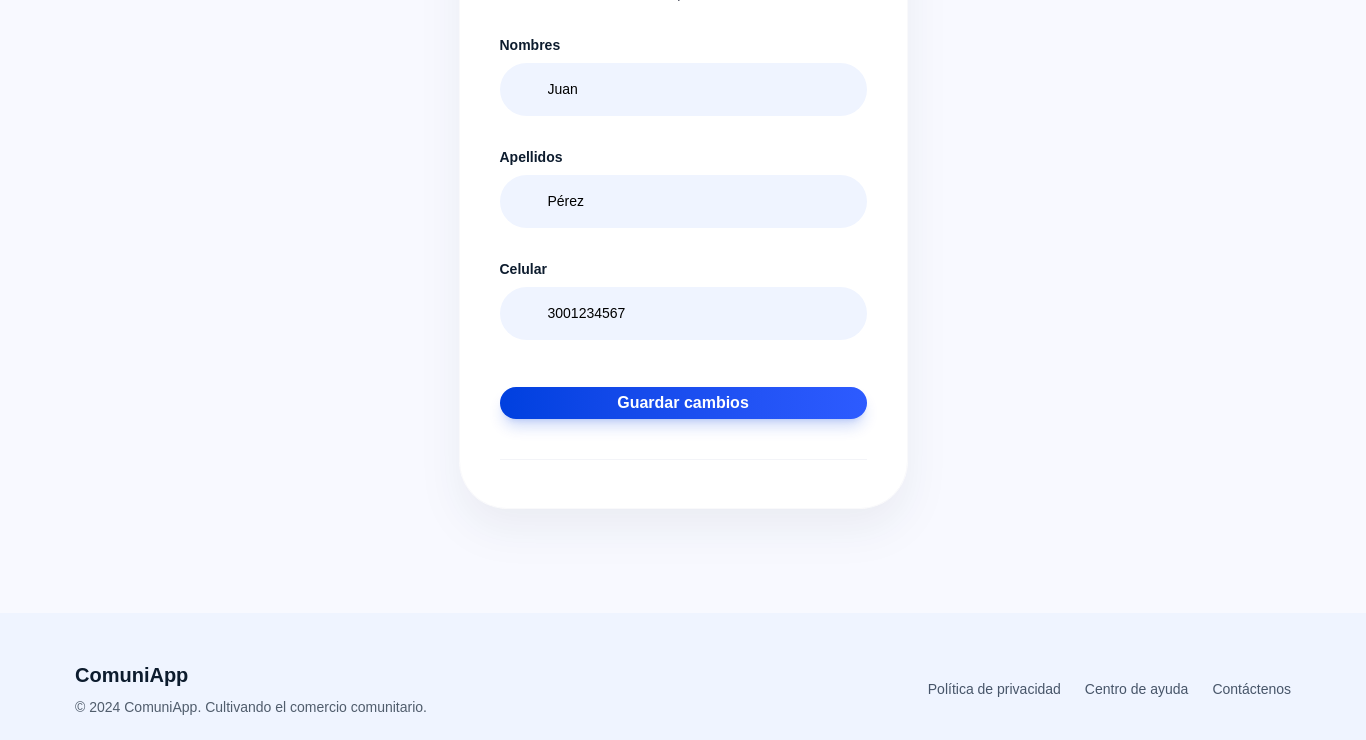
EditProfile › muestra error general cuando updateProfile falla
The width and height of the screenshot is (1366, 740).
(page scrolled)
Click the button named "guardar cambios": (683, 403) [500,387,866,419]
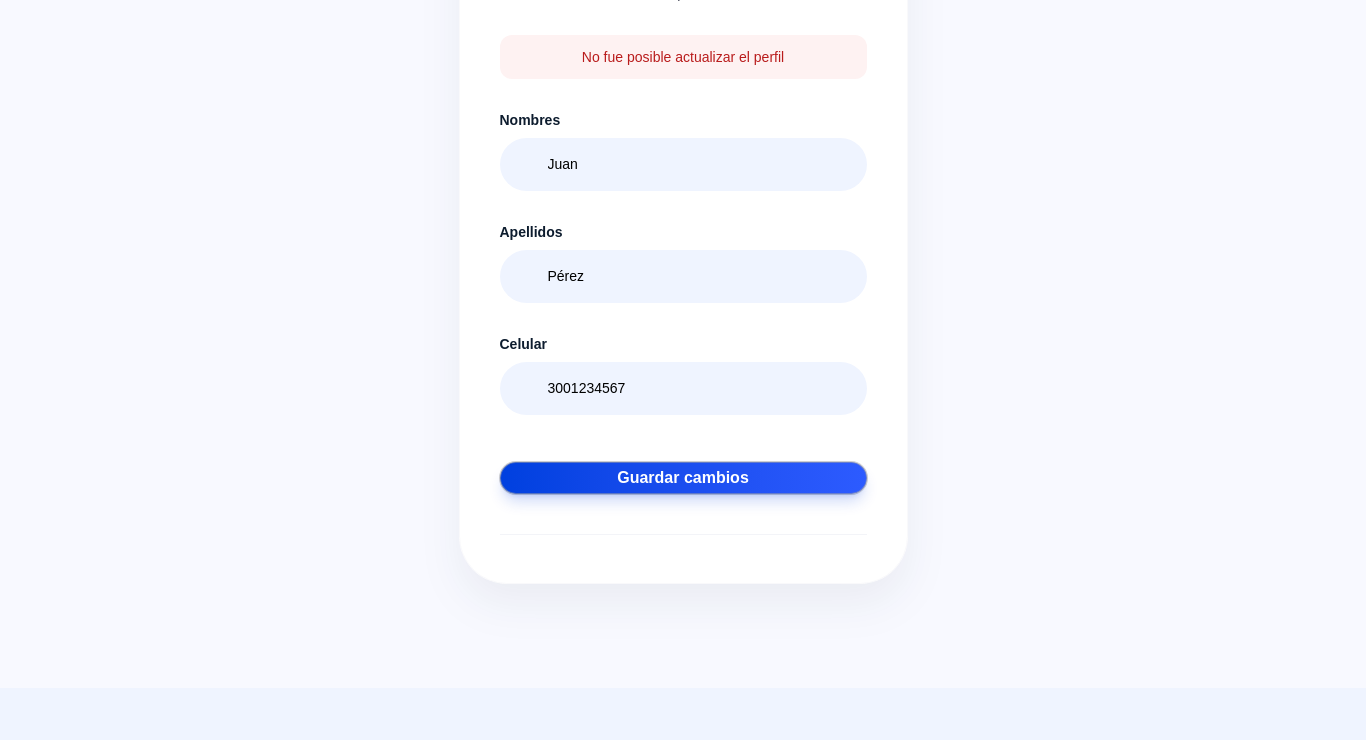
Expected: the message reads "No fue posible actualizar el perfil", [582,49,784,65]
